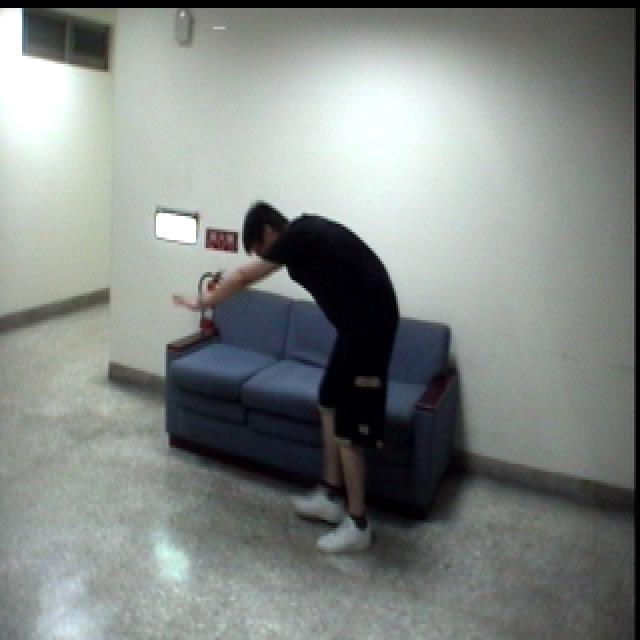bend: (170, 196, 407, 560)
